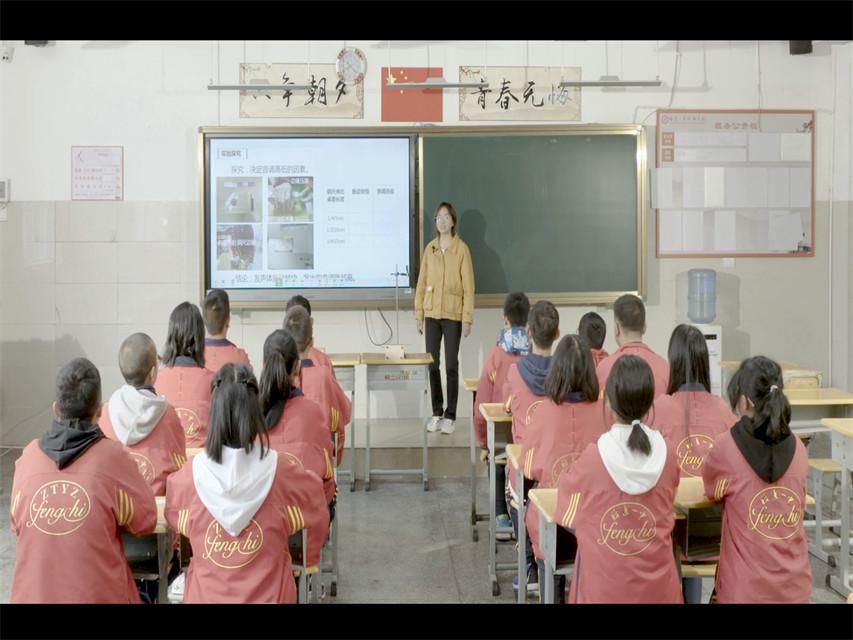listen: (167, 359, 287, 532), (713, 356, 809, 549), (34, 358, 116, 557), (580, 347, 661, 518), (536, 325, 604, 443), (109, 326, 167, 442), (659, 319, 715, 432), (160, 301, 212, 414), (258, 327, 312, 432), (517, 295, 560, 395), (605, 291, 656, 357), (195, 288, 237, 359), (493, 287, 531, 359), (284, 307, 323, 372)
